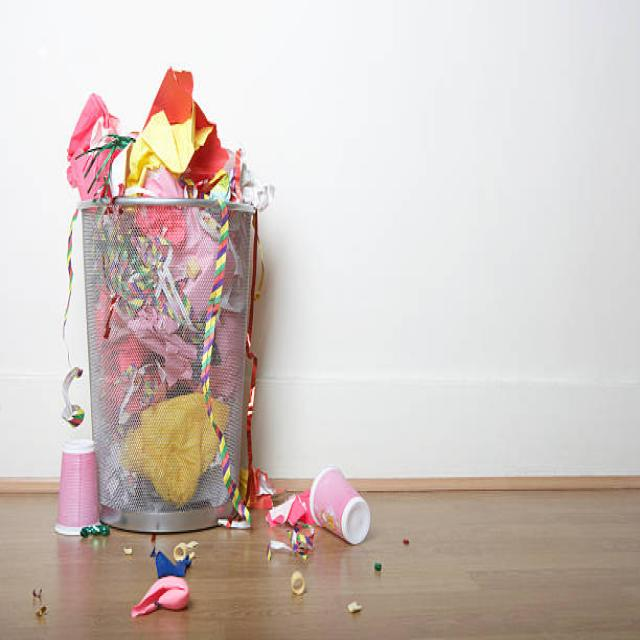trash: (29, 91, 359, 585)
